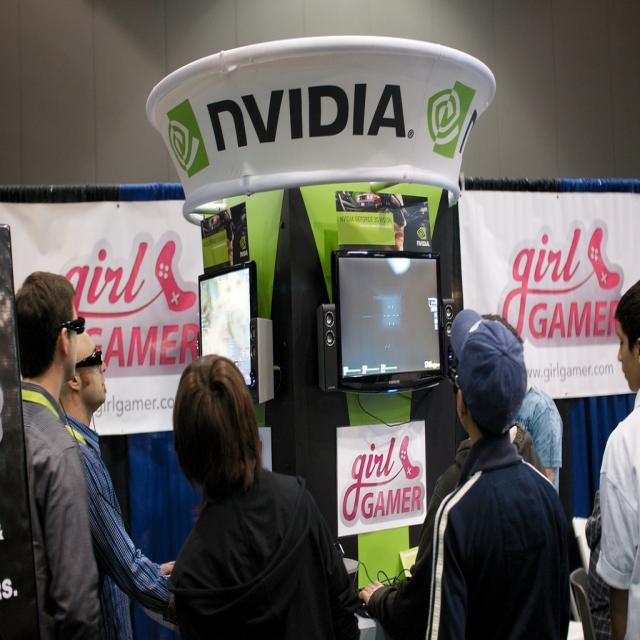nvidia: (427, 82, 477, 161), (168, 99, 211, 180)
